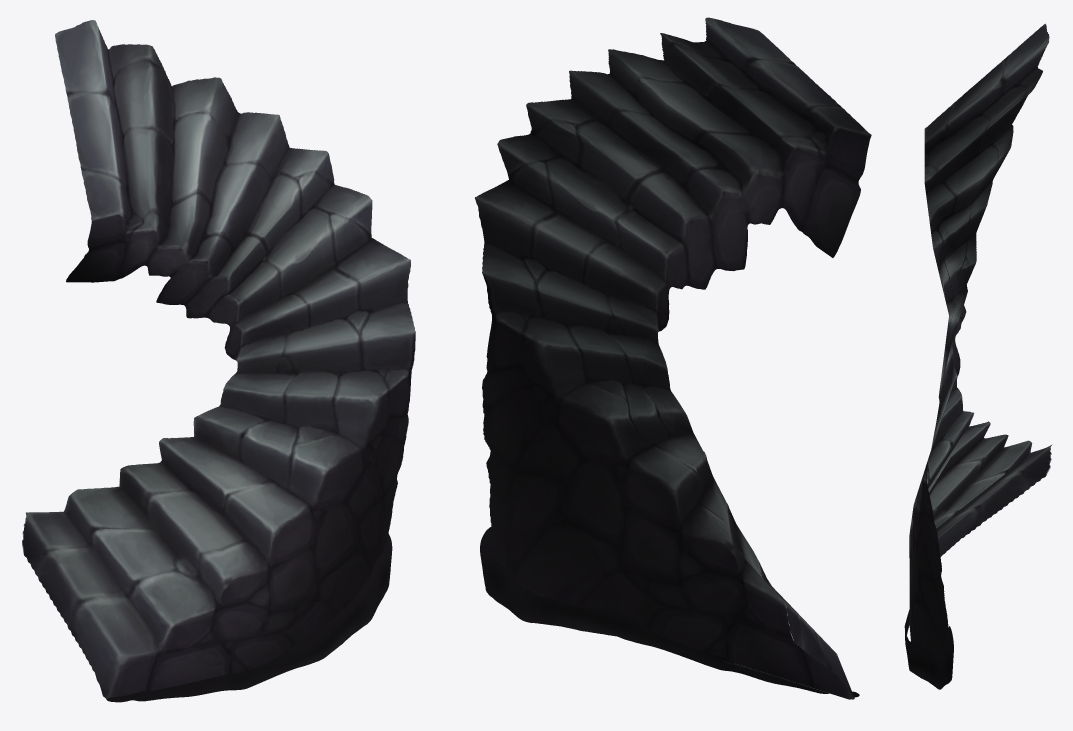
File: Stone Stairs.FBX
The picture shows the model from 3 angles, left to right: view 1: azimuth 30°, elevation 25°; view 2: azimuth 150°, elevation 25°; view 3: azimuth 270°, elevation 25°; orthographic projection. The views are drawn at different scales.
Visible parts, largest first — view 1: Stone Floor Stairs; view 2: Stone Floor Stairs; view 3: Stone Floor Stairs.
Part boxes in pixels (<box>): Stone Floor Stairs: <box>22,20,415,702</box>; Stone Floor Stairs: <box>475,17,871,699</box>; Stone Floor Stairs: <box>904,23,1052,689</box>.
Size of the model in its own units: 487 by 209 by 874.
